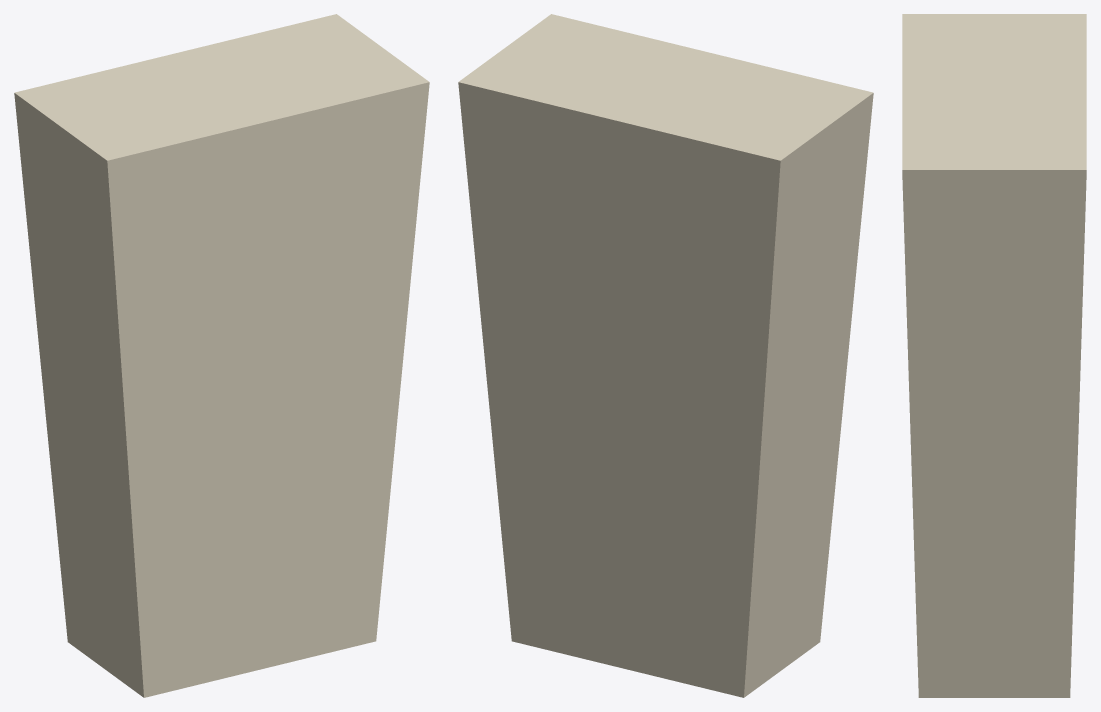
Rendered from wk_skeleton_hand_v01.glb.
The picture shows the model from 3 angles, left to right: view 1: azimuth 30°, elevation 25°; view 2: azimuth 150°, elevation 25°; view 3: azimuth 270°, elevation 25°; orthographic projection.
Visible parts, largest first — view 1: GEO_Skeleton_hand; view 2: GEO_Skeleton_hand; view 3: GEO_Skeleton_hand.
Part boxes in pixels (bbox=[...]): GEO_Skeleton_hand: bbox=[14, 14, 429, 697]; GEO_Skeleton_hand: bbox=[458, 14, 873, 697]; GEO_Skeleton_hand: bbox=[902, 14, 1086, 697].
Size of the model in its own units: 0.07 by 0.115 by 0.035.
